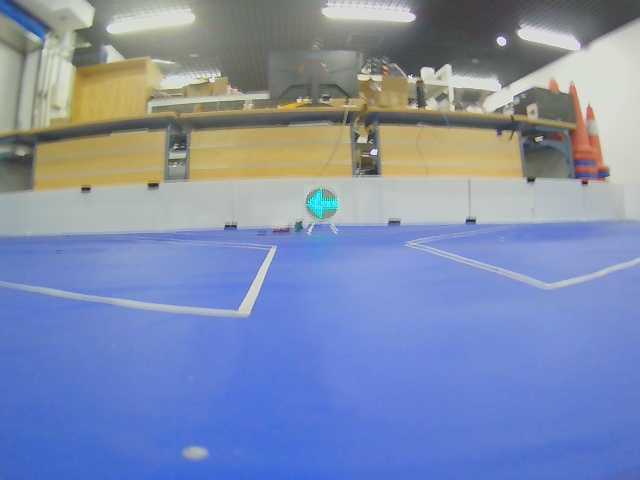left_green: (306, 188, 339, 220)
